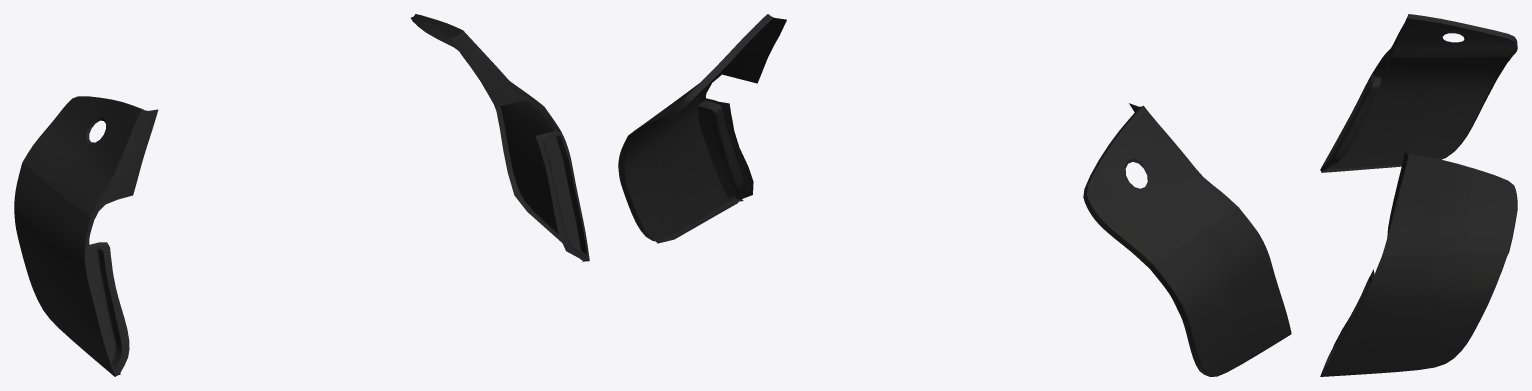
File: sideSlats.obj
3 renders of one model, left to right at view 1: azimuth 30°, elevation 25°; view 2: azimuth 150°, elevation 25°; view 3: azimuth 270°, elevation 25°, orthographic. The views are drawn at different scales.
Parts seen in each view (by area): view 1: sideSlats; view 2: sideSlats; view 3: sideSlats.
Boxes of the visible parts, left/top/right/bottom form: sideSlats: left=14, top=14, right=589, bottom=376; sideSlats: left=618, top=14, right=1291, bottom=376; sideSlats: left=1320, top=14, right=1517, bottom=376.
Bounding box in the file's own units: 185 × 77.68 × 73.1.
1 material, 1 textured.
